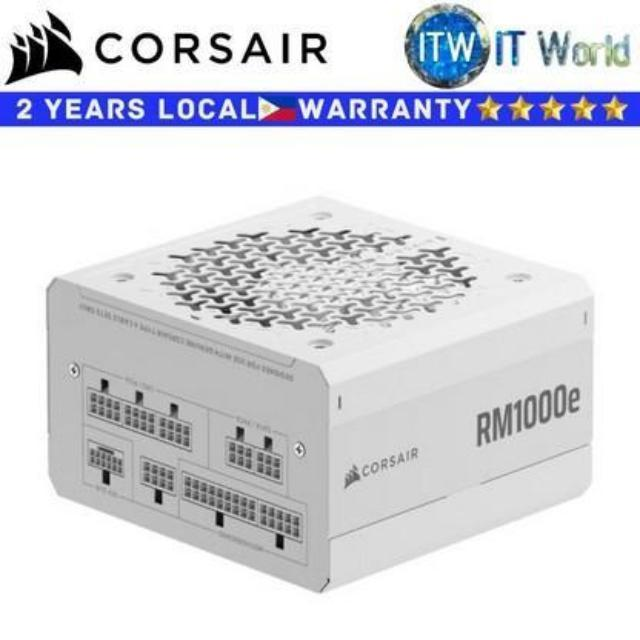PSU: (23, 200, 612, 606)
